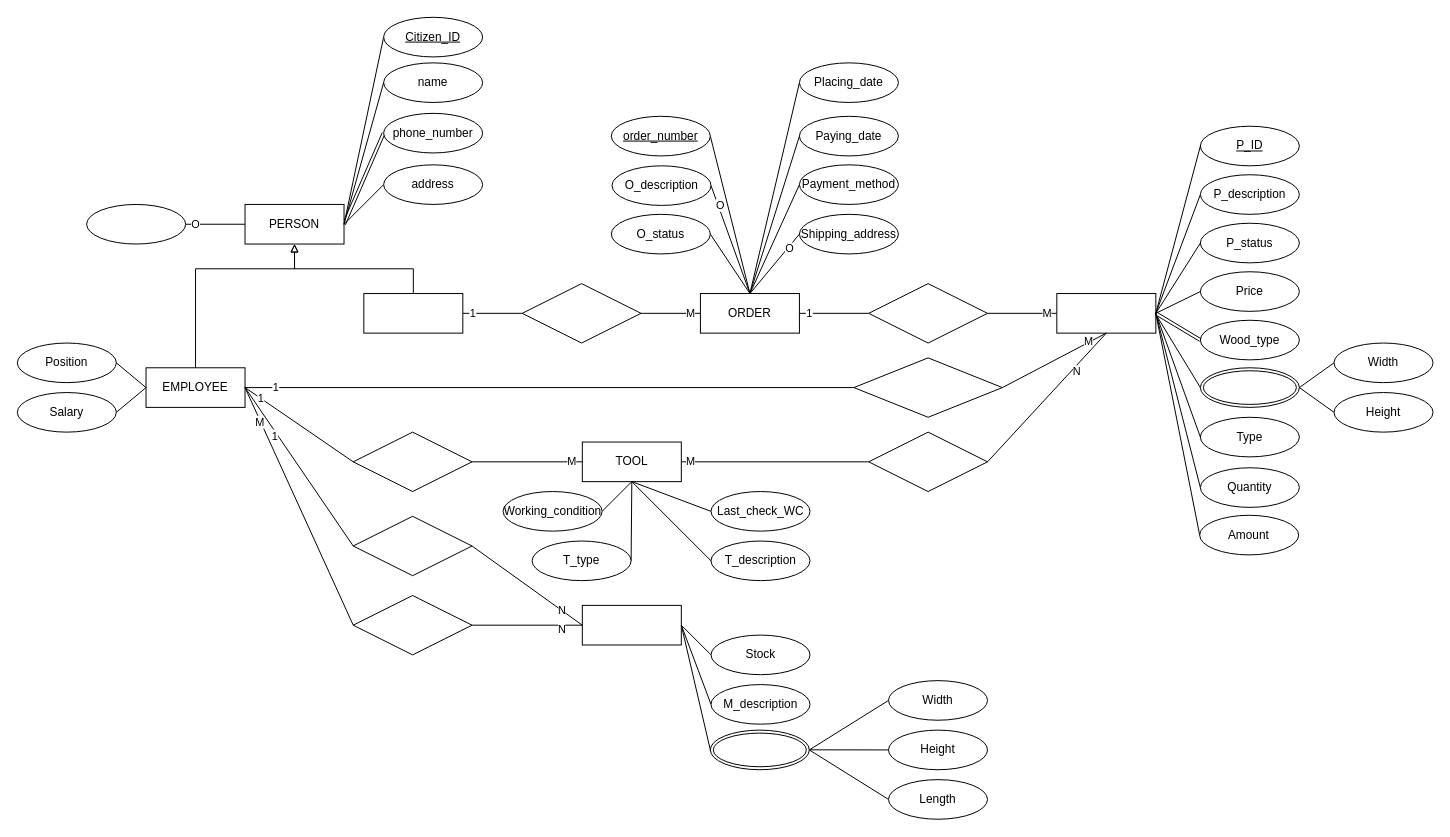
This 1450x837 diagram has some shape labels left out. The box of each missing label's shape, as (x1, y1, x2, y2) in pixels:
CONTAINS: (868, 283, 988, 343)
CUSTOMER: (363, 293, 463, 333)
Dimension: (709, 729, 809, 770)
EMPLOYEE _MAKES: (853, 357, 1002, 417)
MATERIAL: (581, 604, 681, 645)
OPERATES: (352, 431, 472, 492)
PLACES: (521, 283, 641, 343)
PRODUCT: (1056, 293, 1156, 333)
Size: (1199, 367, 1299, 407)
SUPPLY: (352, 594, 472, 655)
Tax_ID: (86, 203, 186, 244)
TOOL_MAKE: (868, 431, 988, 492)
USES: (352, 515, 472, 576)
